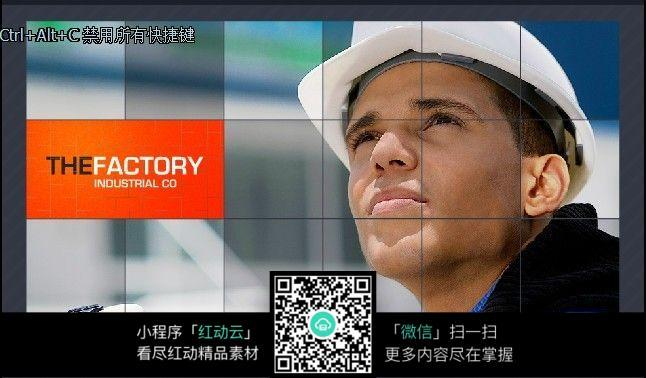helmet: (297, 25, 592, 196)
